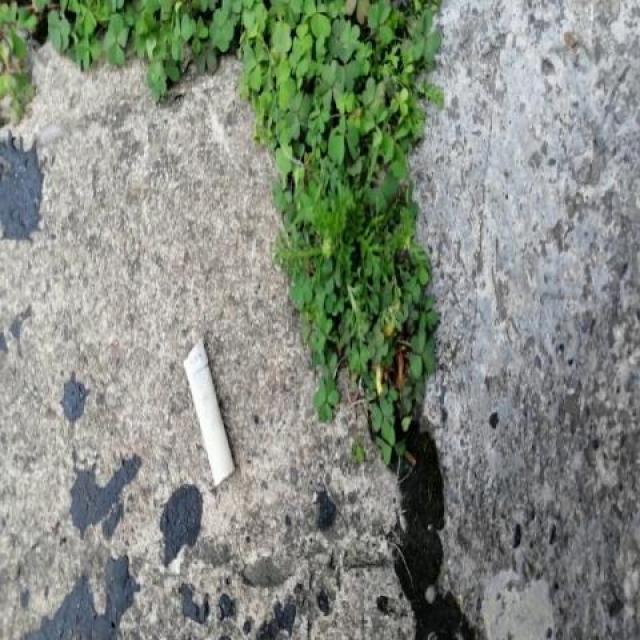non-organic waste: (178, 333, 241, 494)
